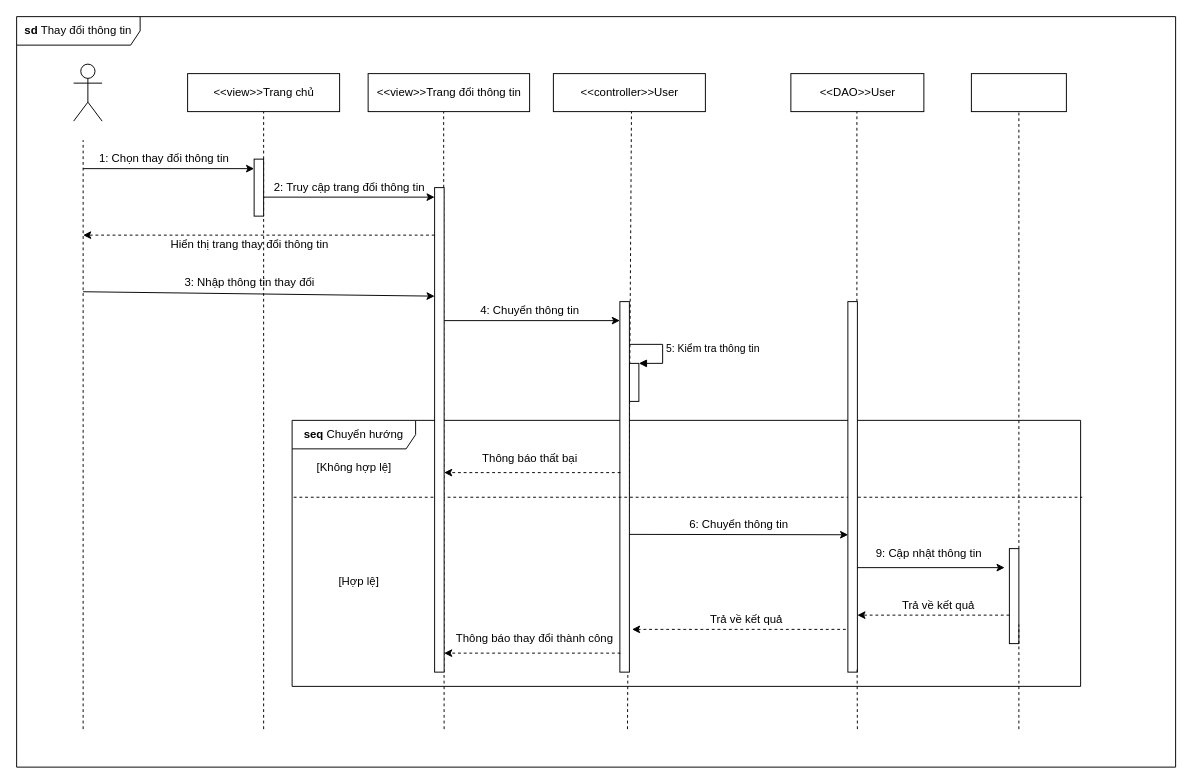
Some shapes in this 1192 by 784 pixel diagram are drawn without their labels. The centre of each missing label's shape, as x and y in pixels:
Database: (x=1018, y=92)
Người dùng: (x=87, y=92)
